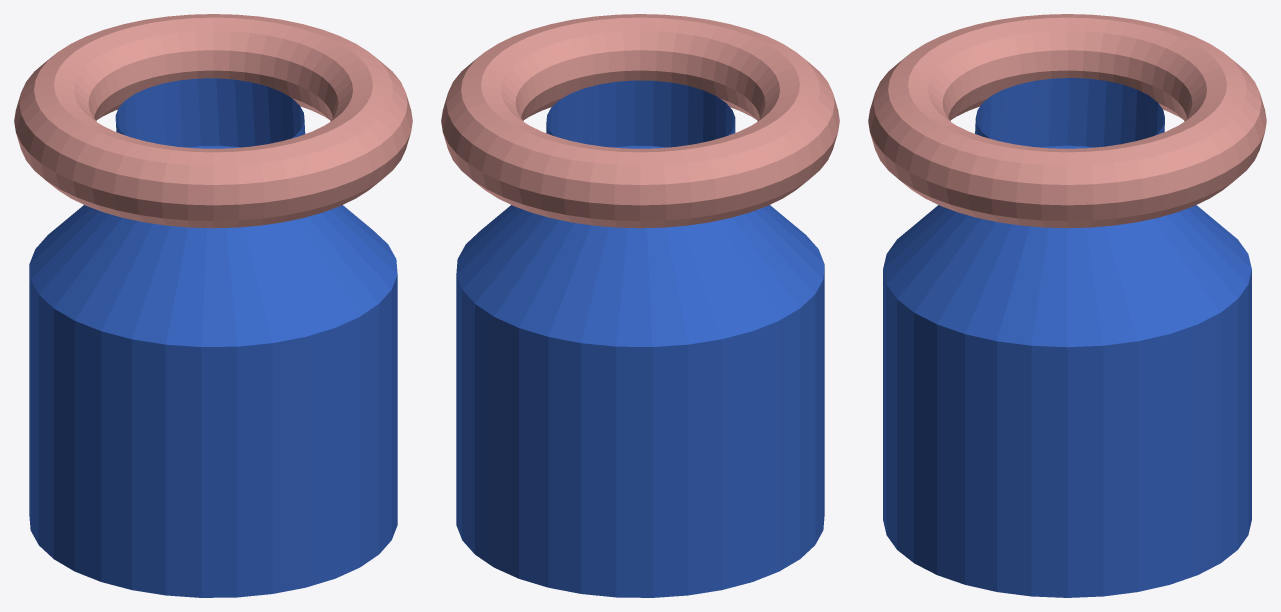
File: Tower01.glb
The picture shows the model from 3 angles, left to right: view 1: azimuth 30°, elevation 25°; view 2: azimuth 150°, elevation 25°; view 3: azimuth 270°, elevation 25°; orthographic projection.
Parts seen in each view (by area): view 1: Cylinder, Torus; view 2: Cylinder, Torus; view 3: Cylinder, Torus.
Part boxes in pixels (x1=…): Cylinder: x1=29, y1=78, x2=397, y2=597; Torus: x1=14, y1=14, x2=412, y2=228; Cylinder: x1=456, y1=80, x2=824, y2=597; Torus: x1=441, y1=14, x2=839, y2=228; Cylinder: x1=883, y1=78, x2=1251, y2=597; Torus: x1=868, y1=14, x2=1266, y2=228.
Size of the model in its own units: 18.66 by 22.47 by 18.66.
